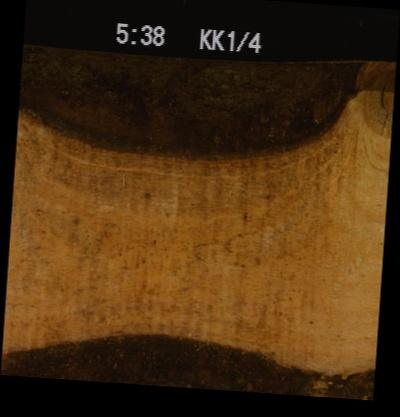sound_knot: (362, 68, 392, 135)
wave: (19, 46, 391, 160), (1, 333, 373, 387)
